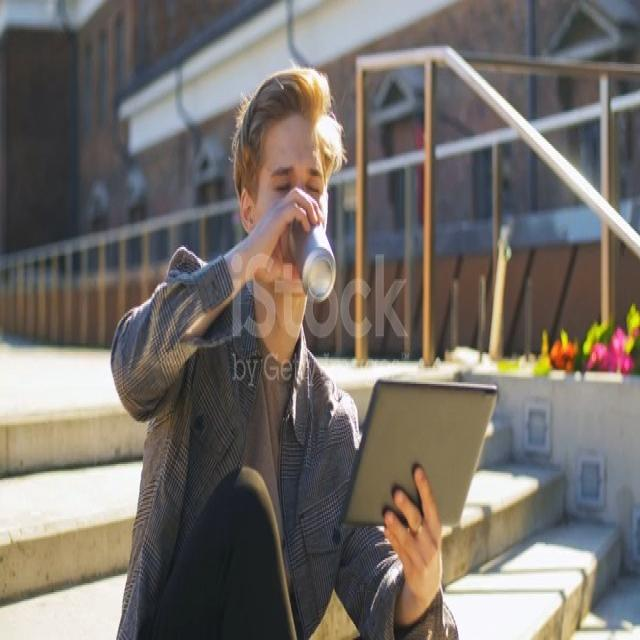can: (288, 206, 336, 305)
